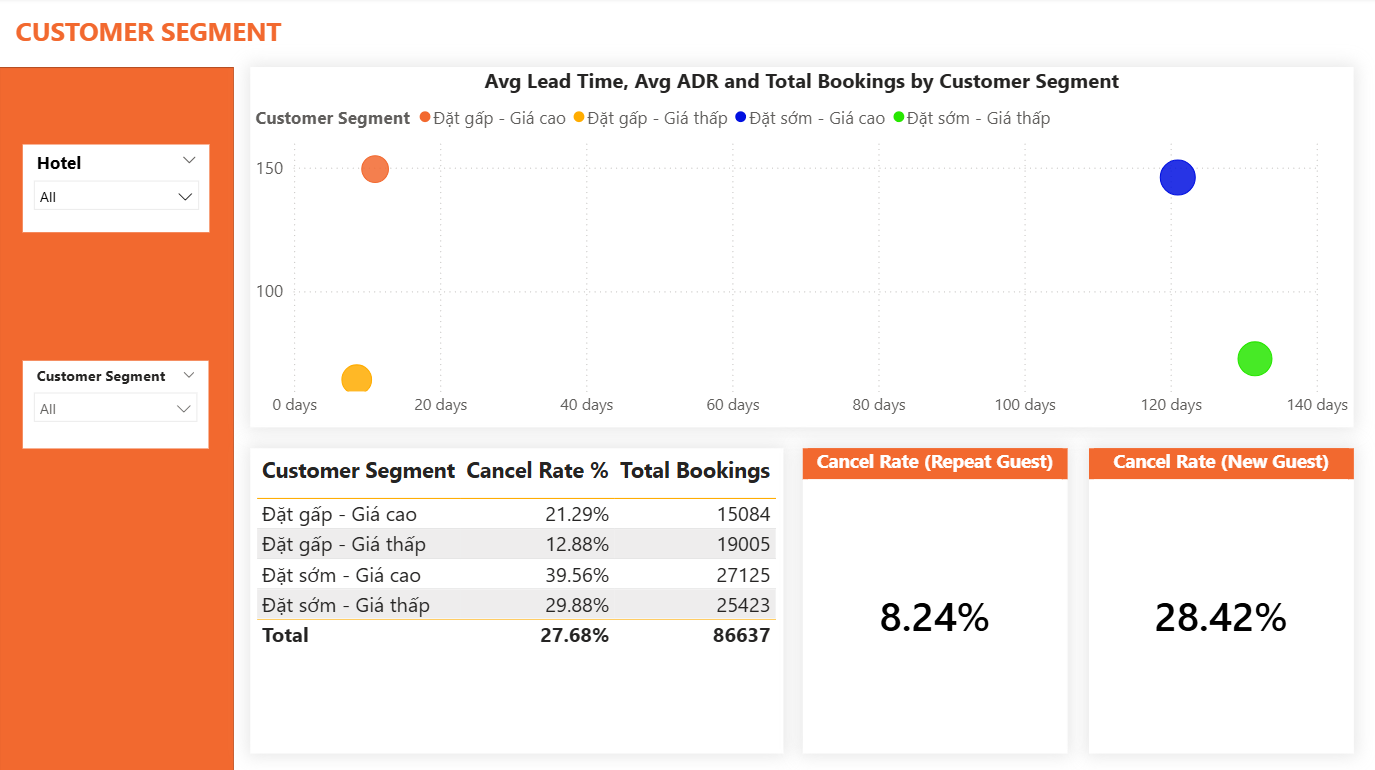

The page's visual inventory and layout, read from the dashboard file:
{"tool":"powerbi","page":{"name":"Customer Segment","canvas":[1280,720],"ordinal":3},"visuals":[{"type":"shape","box":[0,65,218.8,670],"z":0},{"type":"slicer","fields":{"Values":["vw_hotel_bookings.hotel"]},"box":[22.5,137.5,173.8,81.2],"z":1000},{"type":"slicer","fields":{"Values":["vw_hotel_bookings.Customer Segment"]},"box":[22.5,338.8,172.5,81.2],"z":2000},{"type":"textbox","box":[10,10.8,493.1,46.2],"z":5000},{"type":"scatterChart","fields":{"Y":["MeasureTable.Avg ADR"],"X":["MeasureTable.Avg Lead Time"],"Series":["vw_hotel_bookings.Customer Segment"],"Size":["MeasureTable.Total Bookings"]},"box":[233.8,65,1026.2,335],"z":7000},{"type":"tableEx","fields":{"Values":["vw_hotel_bookings.Customer Segment","MeasureTable.Cancel Rate %","MeasureTable.Total Bookings"]},"box":[233.8,420,496.2,283.8],"z":8000},{"type":"cardVisual","title":"Cancel Rate (Repeat Guest)","fields":{"Data":["MeasureTable.Cancel Rate - Repeat Guest"]},"box":[747.5,420,246.2,283.8],"z":9000},{"type":"cardVisual","title":"Cancel Rate (New Guest)","fields":{"Data":["MeasureTable.Cancel Rate - New Guest"]},"box":[1013.8,420,246.2,283.8],"z":10000}]}

Visuals, with their boxes in screenshot pixels (x1, y1, x2, y2), scaled from the page's 1280x720 canvas onto the 1375x770 screenshot:
shape: Rect(0, 70, 235, 769)
slicer - vw_hotel_bookings.hotel: Rect(24, 147, 211, 234)
slicer - vw_hotel_bookings.Customer Segment: Rect(24, 362, 209, 449)
textbox: Rect(11, 12, 540, 61)
scatterChart - MeasureTable.Avg ADR x MeasureTable.Avg Lead Time: Rect(251, 70, 1354, 428)
tableEx - vw_hotel_bookings.Customer Segment x MeasureTable.Cancel Rate %: Rect(251, 449, 784, 753)
"Cancel Rate (Repeat Guest)" cardVisual: Rect(803, 449, 1067, 753)
"Cancel Rate (New Guest)" cardVisual: Rect(1089, 449, 1354, 753)
